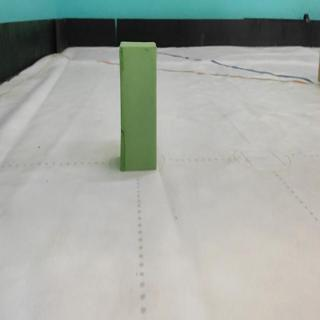greenbox: (119, 41, 159, 170)
